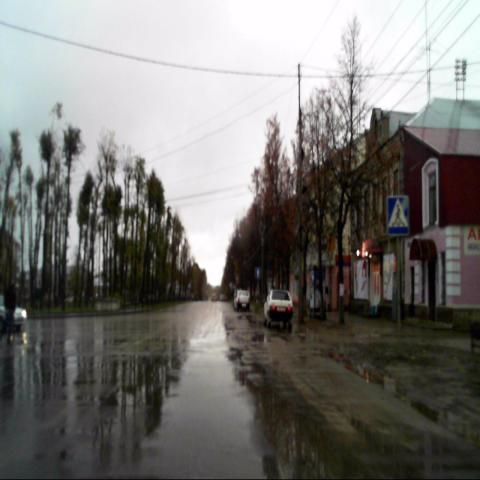5_19_1: (388, 196, 410, 236)
